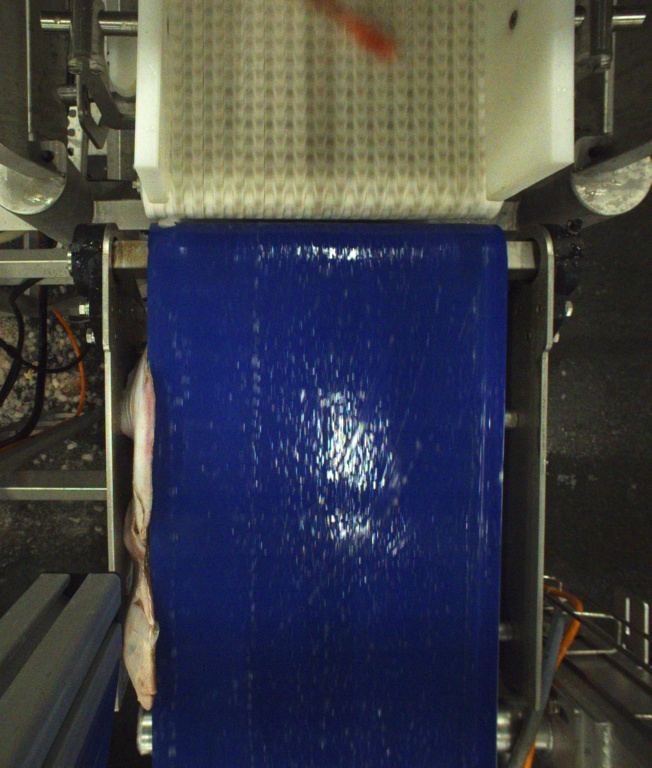GUU: (304, 0, 393, 64)
